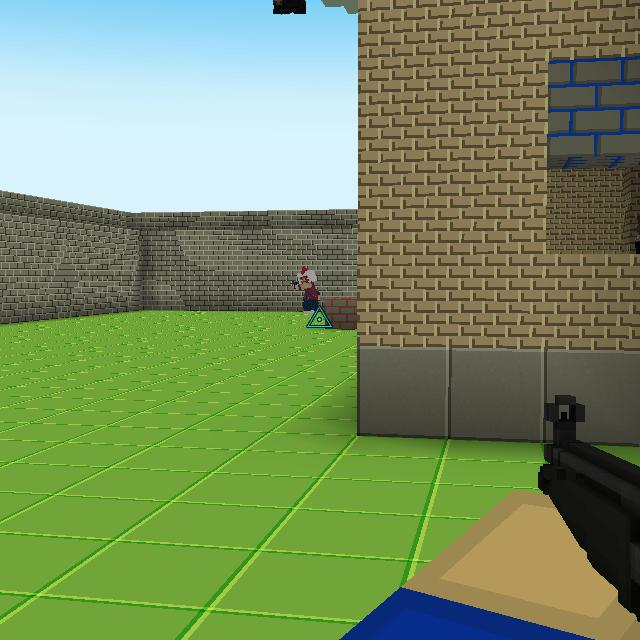enemy: (293, 264, 322, 314)
